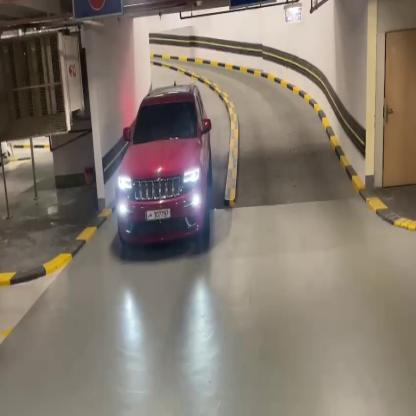np: (143, 206, 174, 222)
